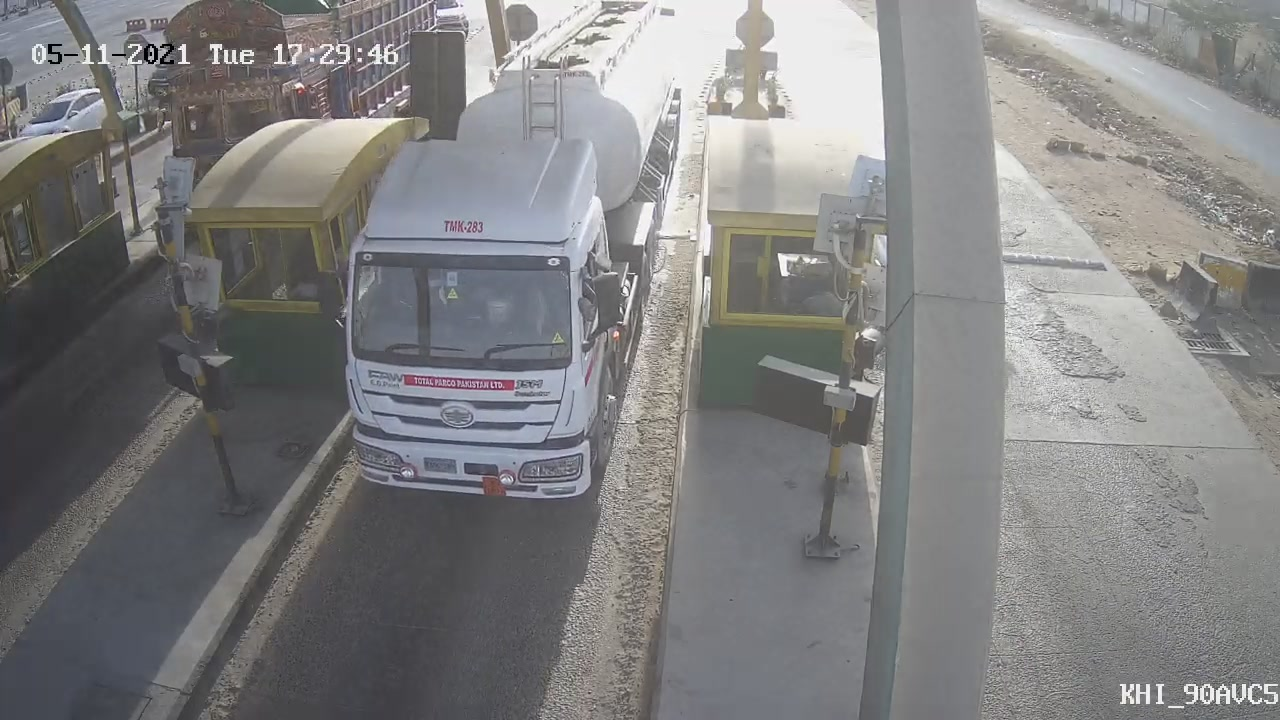F6: (301, 1, 699, 525)
